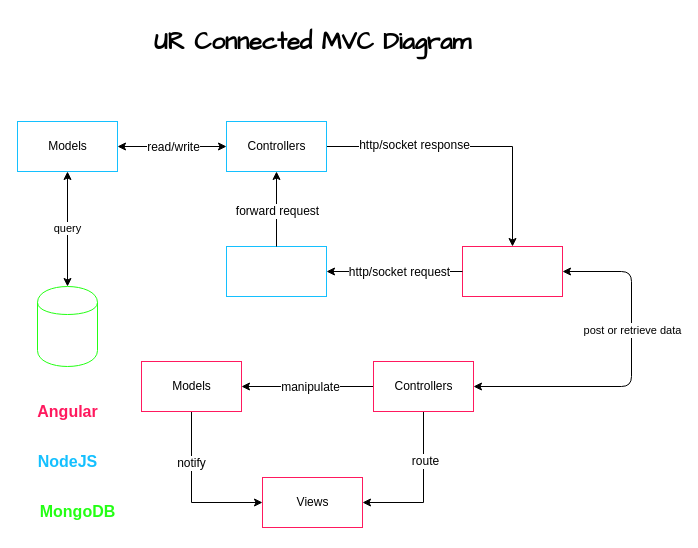
Some shapes in this 698 by 548 pixel diagram are drawn without their labels. The centre of each missing label's shape, as x and y in pixels:
"DB" belongs at (x=67, y=326).
"Routes" belongs at (x=276, y=271).
"Services" belongs at (x=512, y=271).
